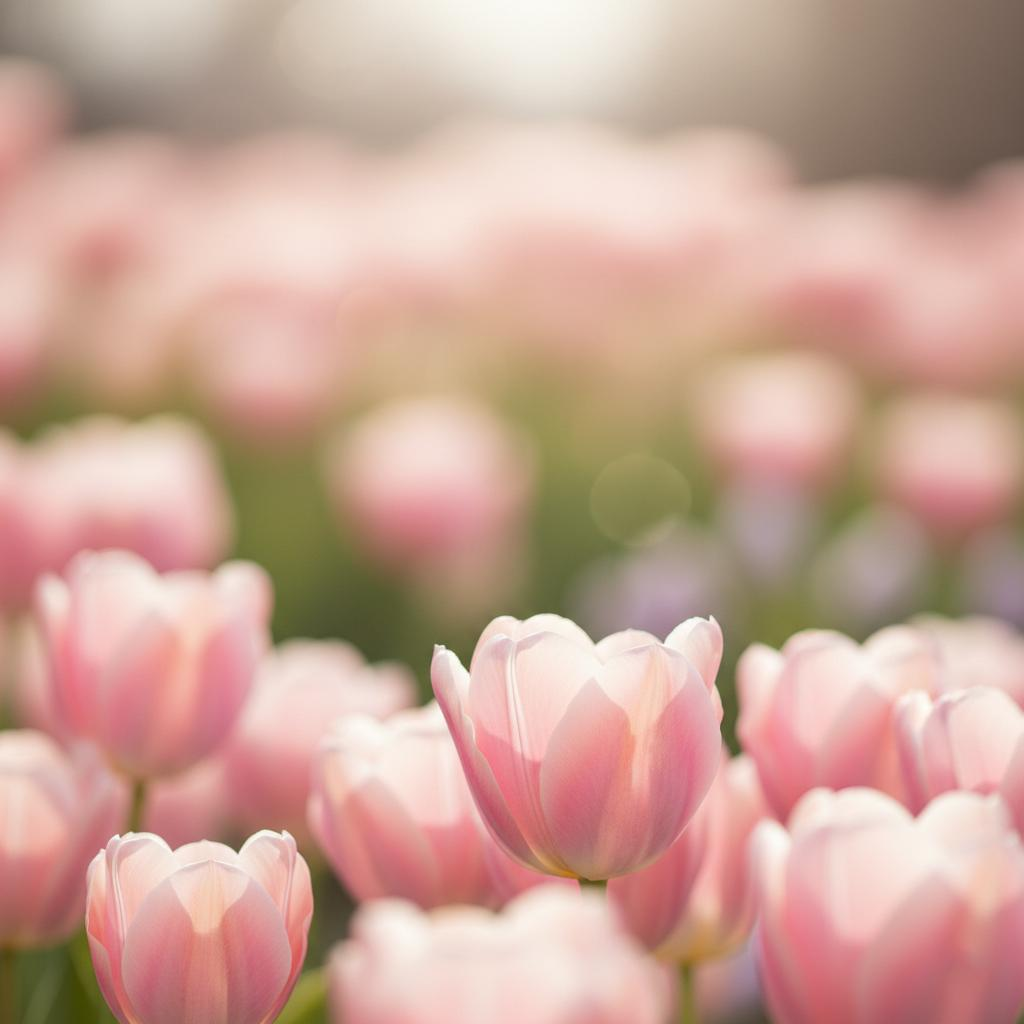tulip: (427, 610, 726, 882)
